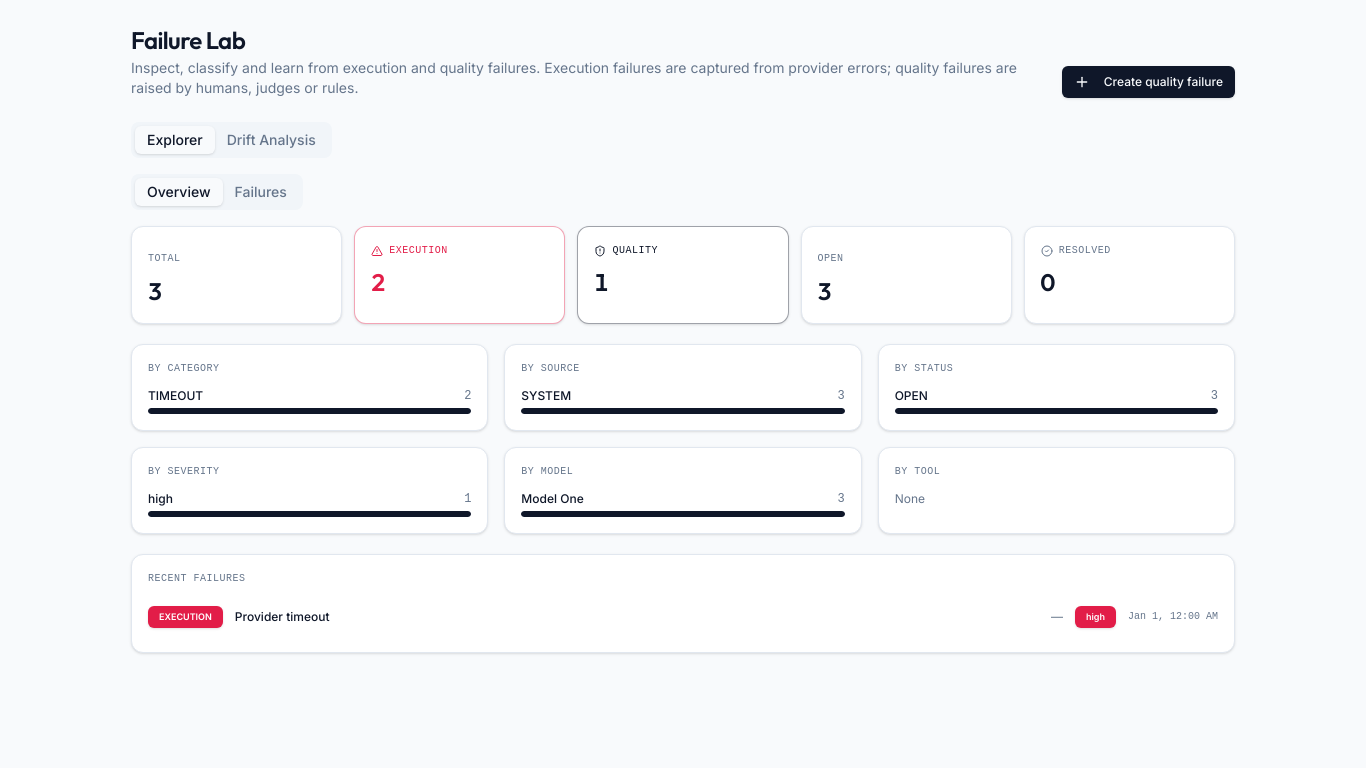
Test: switching to the Drift Analysis tab renders the analysis form
This screenshot has width=1366, height=768.
Expected: the element with test id "failure-kpi-total" is shown, [131,226,342,324]
Step 1. Click the tab with test id "failures-tab-drift" → (271, 140), box [215,126,328,154]
(page scrolled)
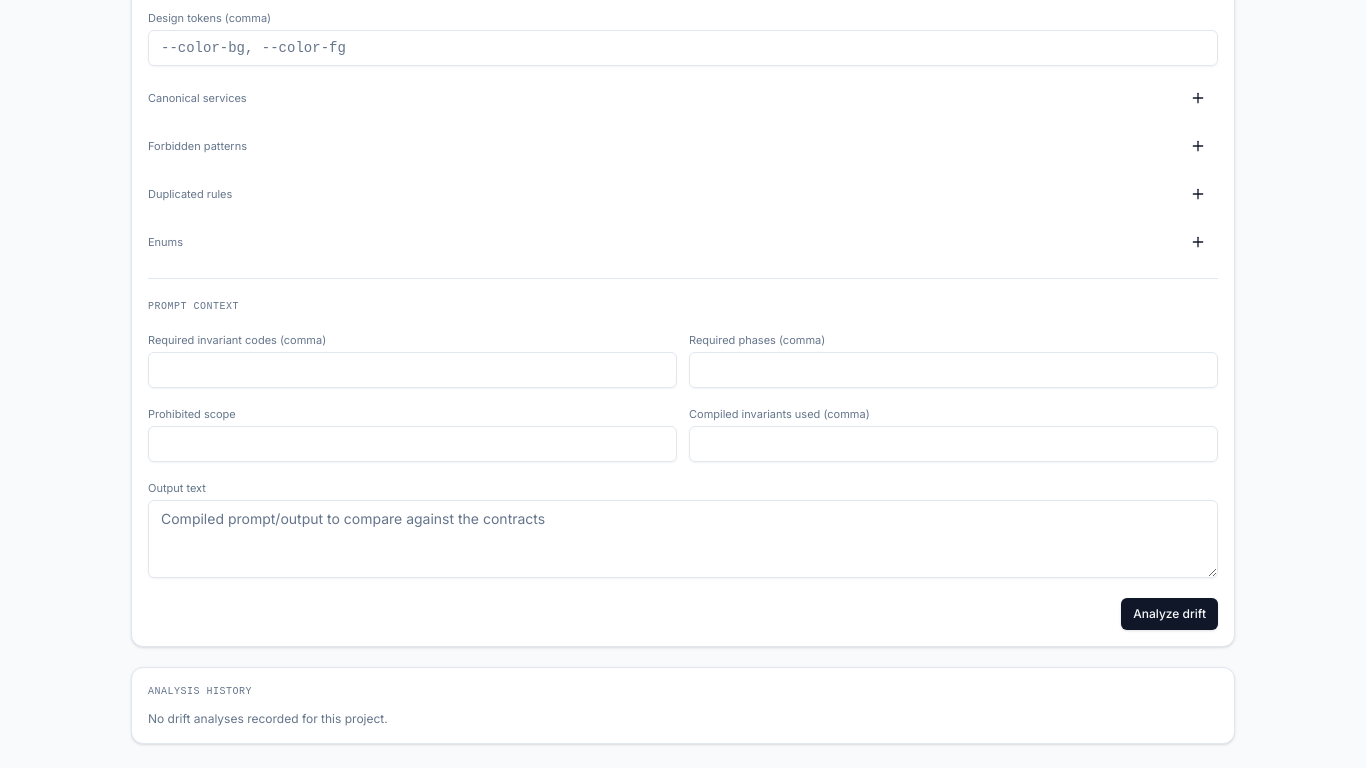
Result: the button with test id "drift-analyze-submit" is shown at [1121,598,1218,630]
